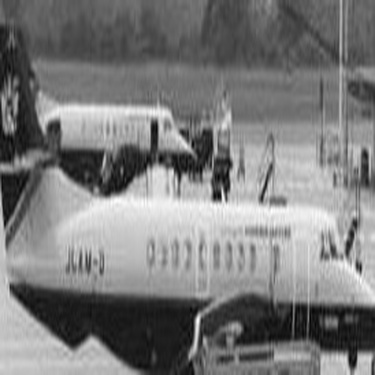airplane: (1, 23, 368, 371), (1, 9, 203, 188)
